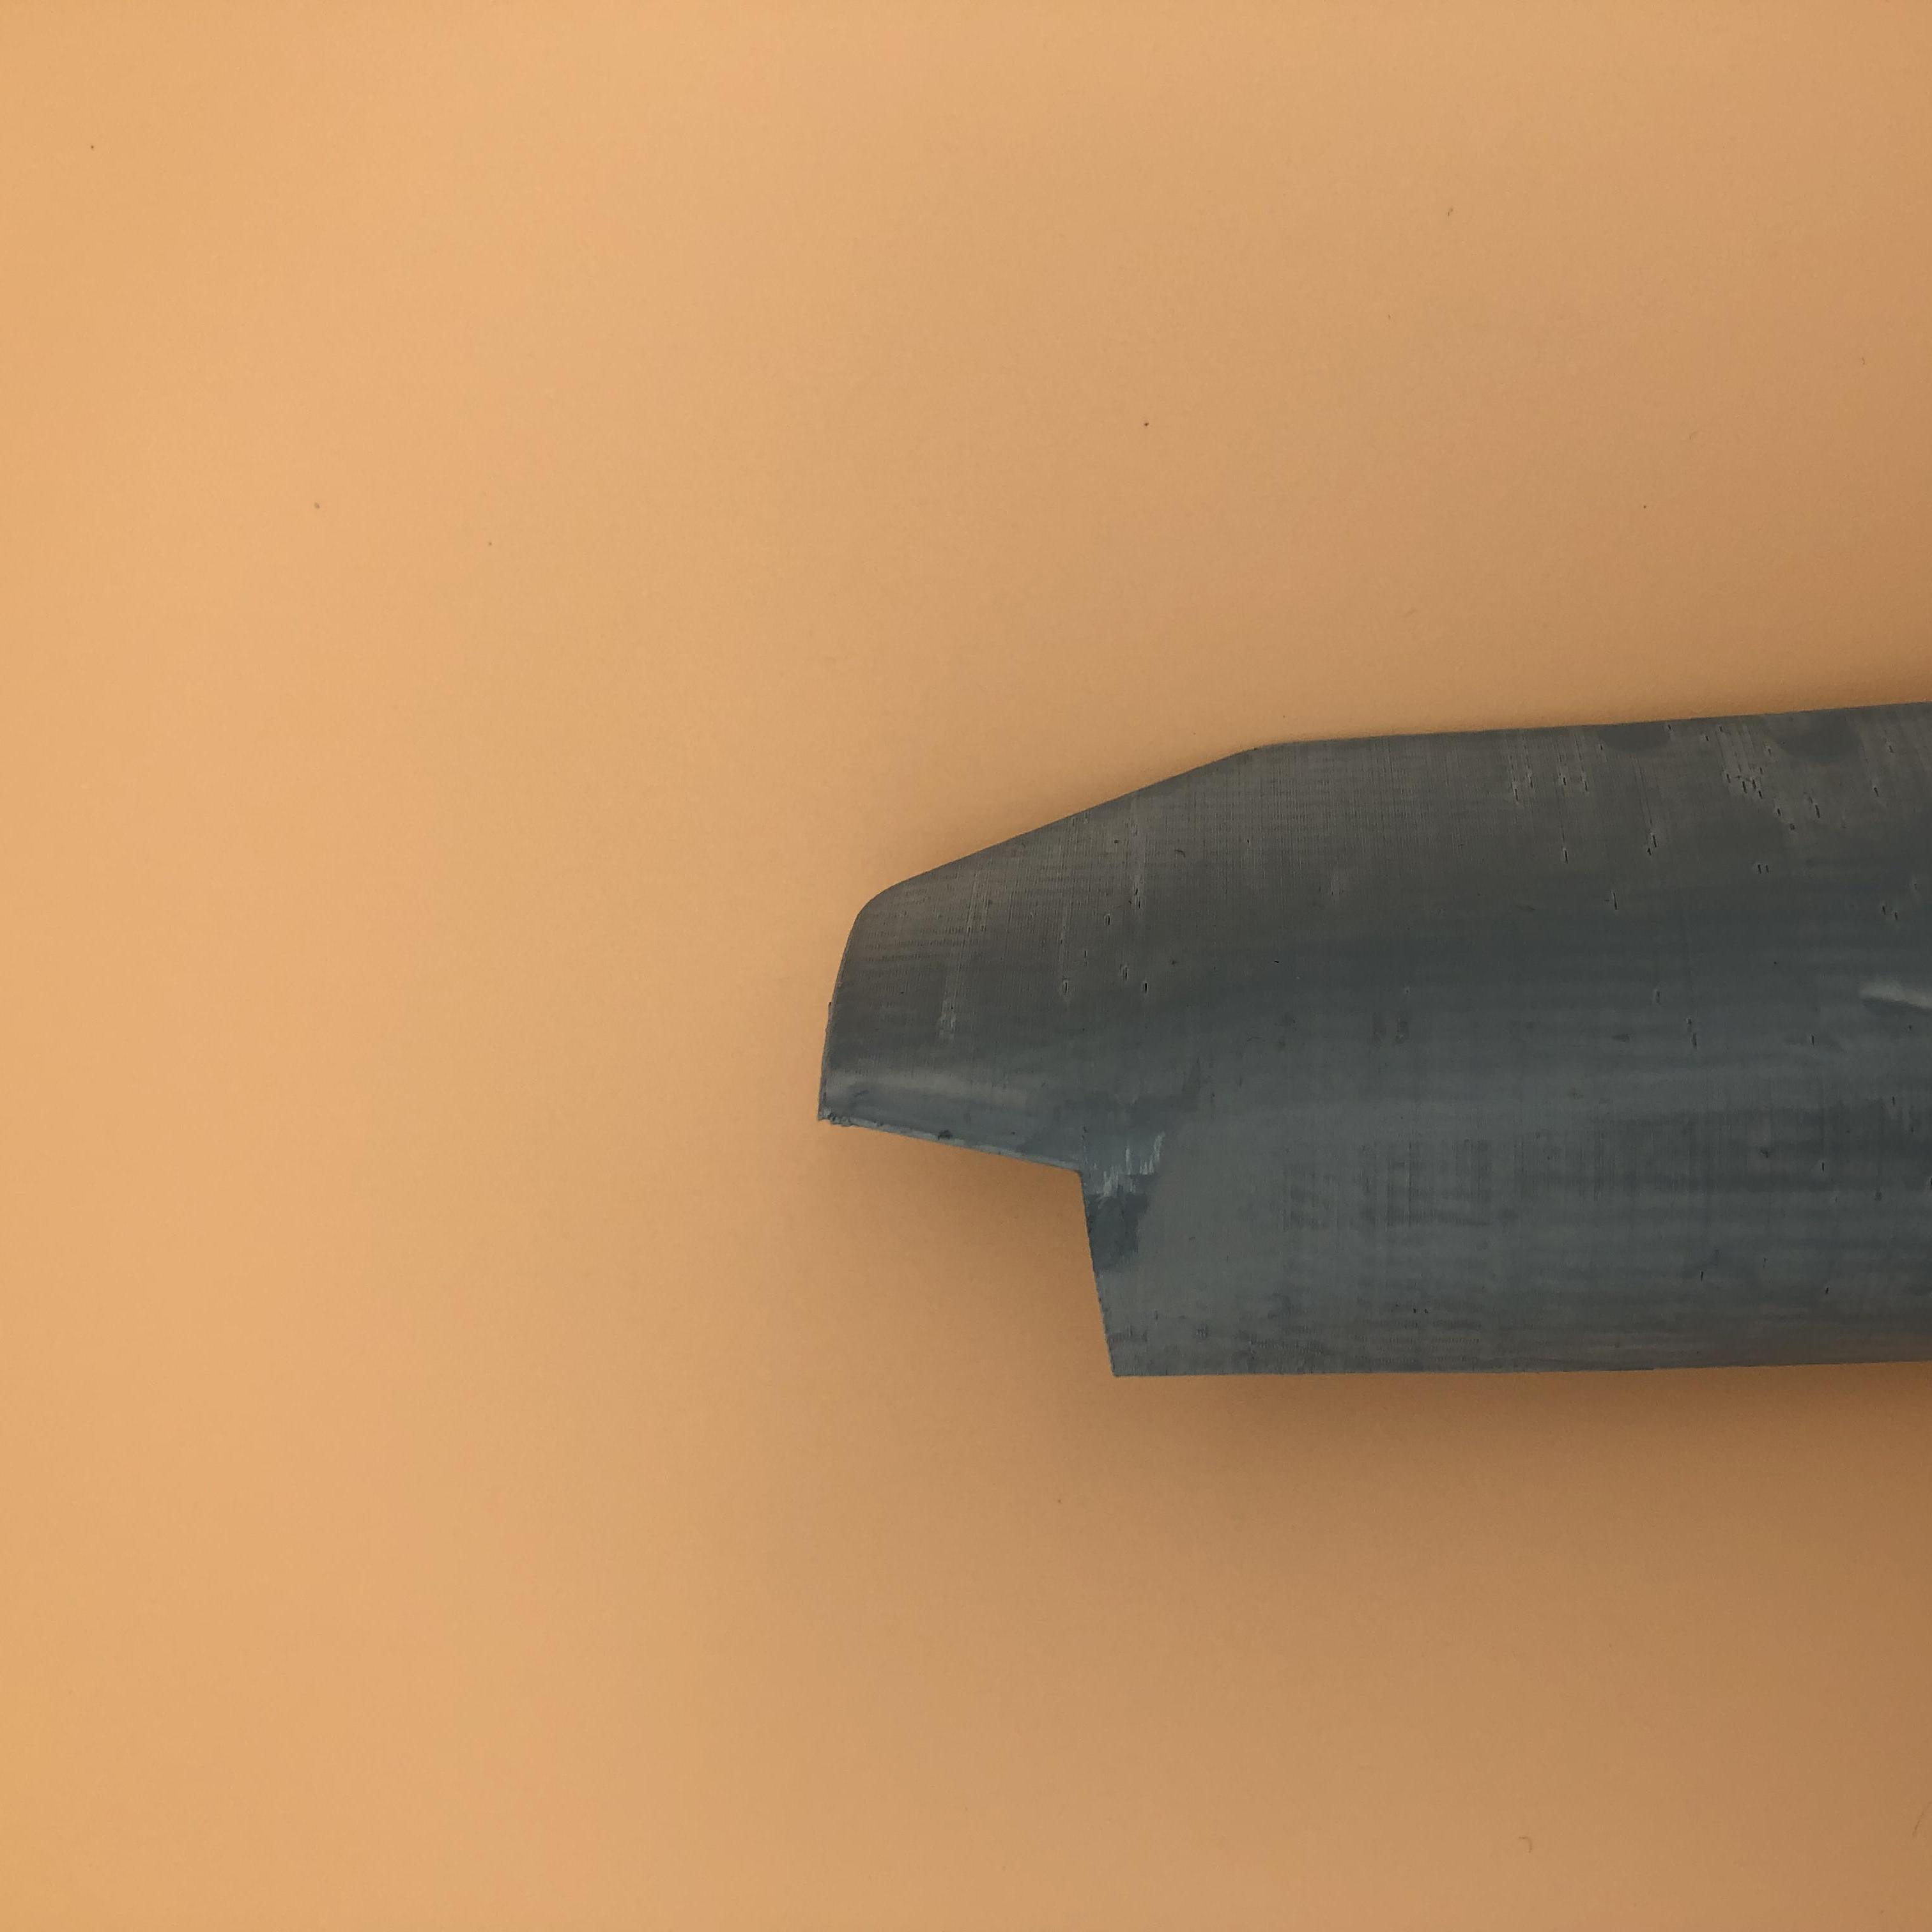fracture: (835, 1086, 1162, 1380)
